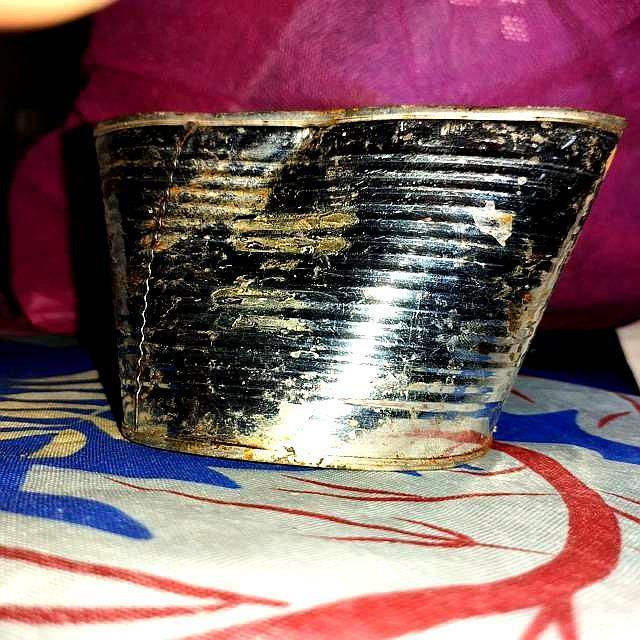Non-biodegradable: (89, 103, 628, 473)
